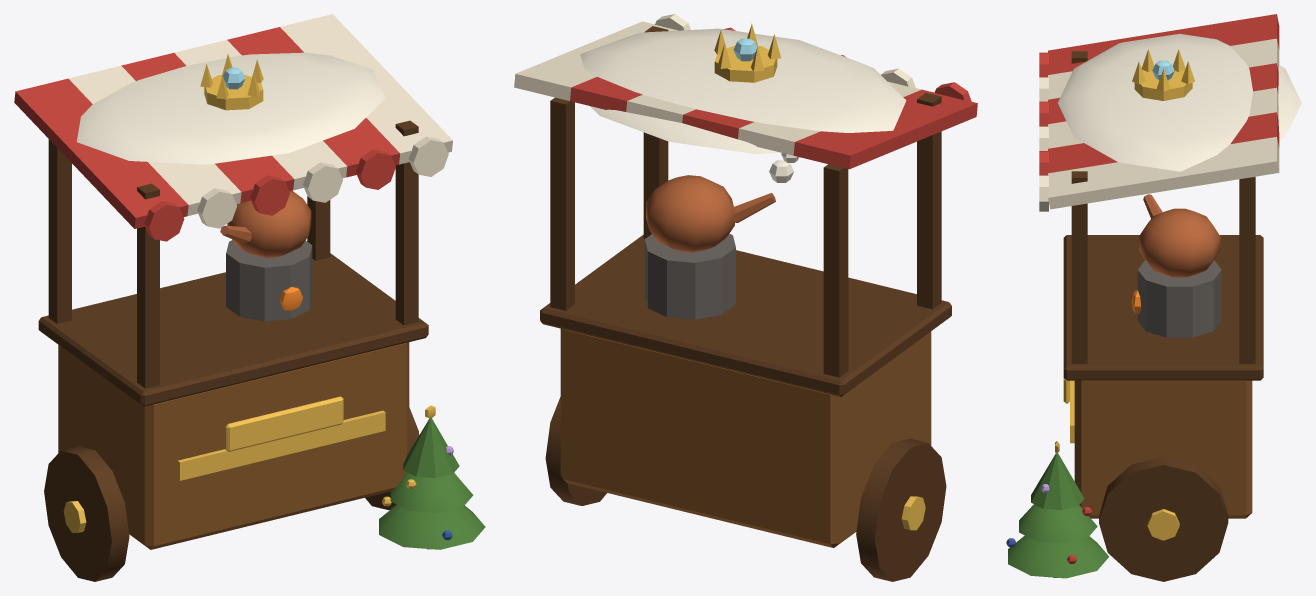
The model's file is PR_Station_SezonKis_T3.fbx.
3 renders of one model, left to right at view 1: azimuth 30°, elevation 25°; view 2: azimuth 150°, elevation 25°; view 3: azimuth 270°, elevation 25°, orthographic. The views are drawn at different scales.
Visible parts, largest first — view 1: PR_Station_SezonKis_T3; view 2: PR_Station_SezonKis_T3; view 3: PR_Station_SezonKis_T3.
Boxes of the visible parts, x1,y1,x2,y2 form: PR_Station_SezonKis_T3: (14,14,485,581); PR_Station_SezonKis_T3: (514,14,977,581); PR_Station_SezonKis_T3: (1006,14,1301,581).
Bounding box in the file's own units: 1.19 × 1.54 × 0.9156.
